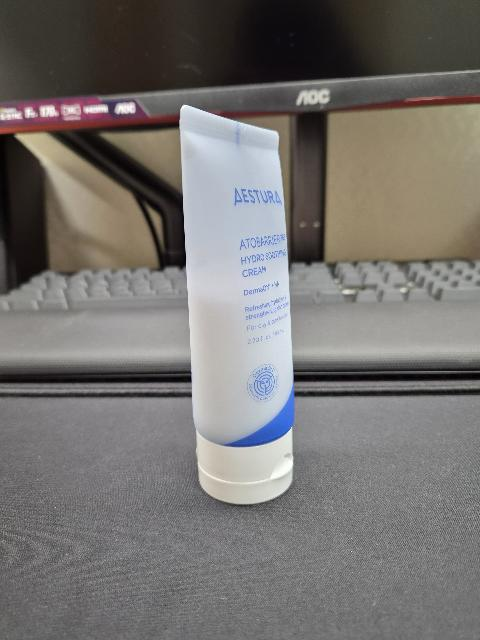handcream: (180, 105, 295, 504)
